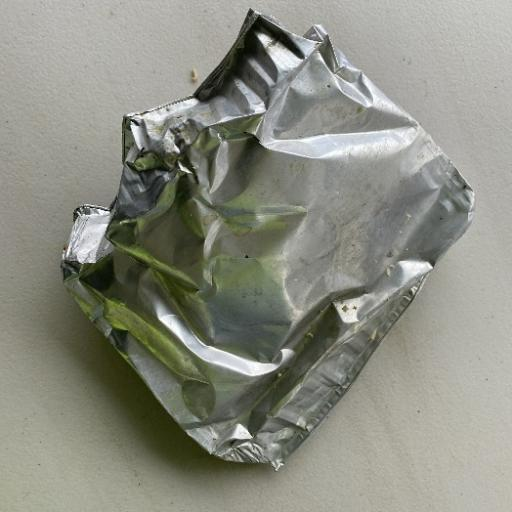Metal: (58, 8, 476, 471)
